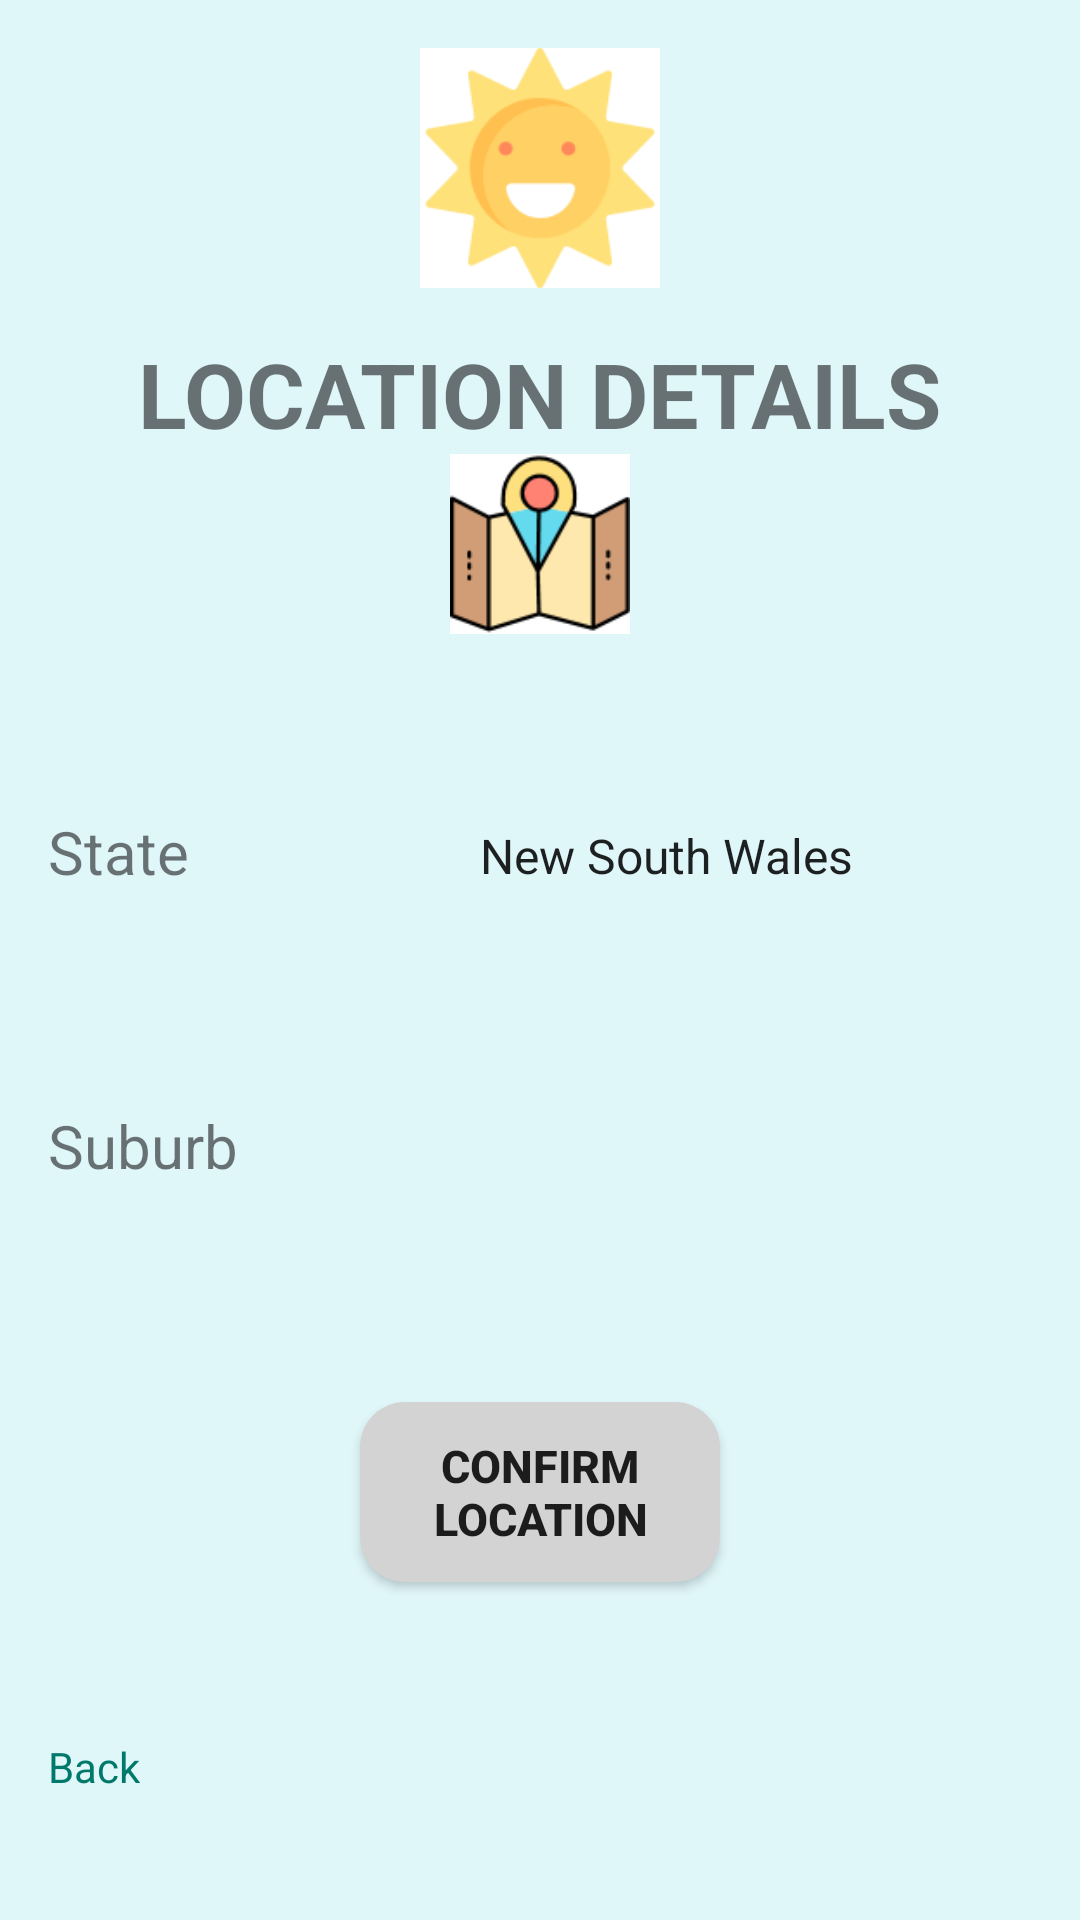

Where to tap for icons on this 1080×1920 app screen, as [x,y]:
set location: [540,544]
sun: [540,168]
